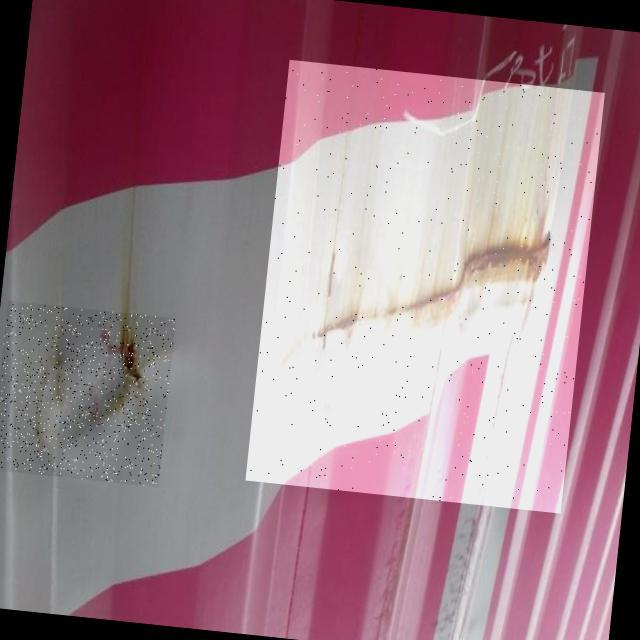Dent: (245, 59, 604, 513)
Minor-Dent: (0, 300, 175, 487)
